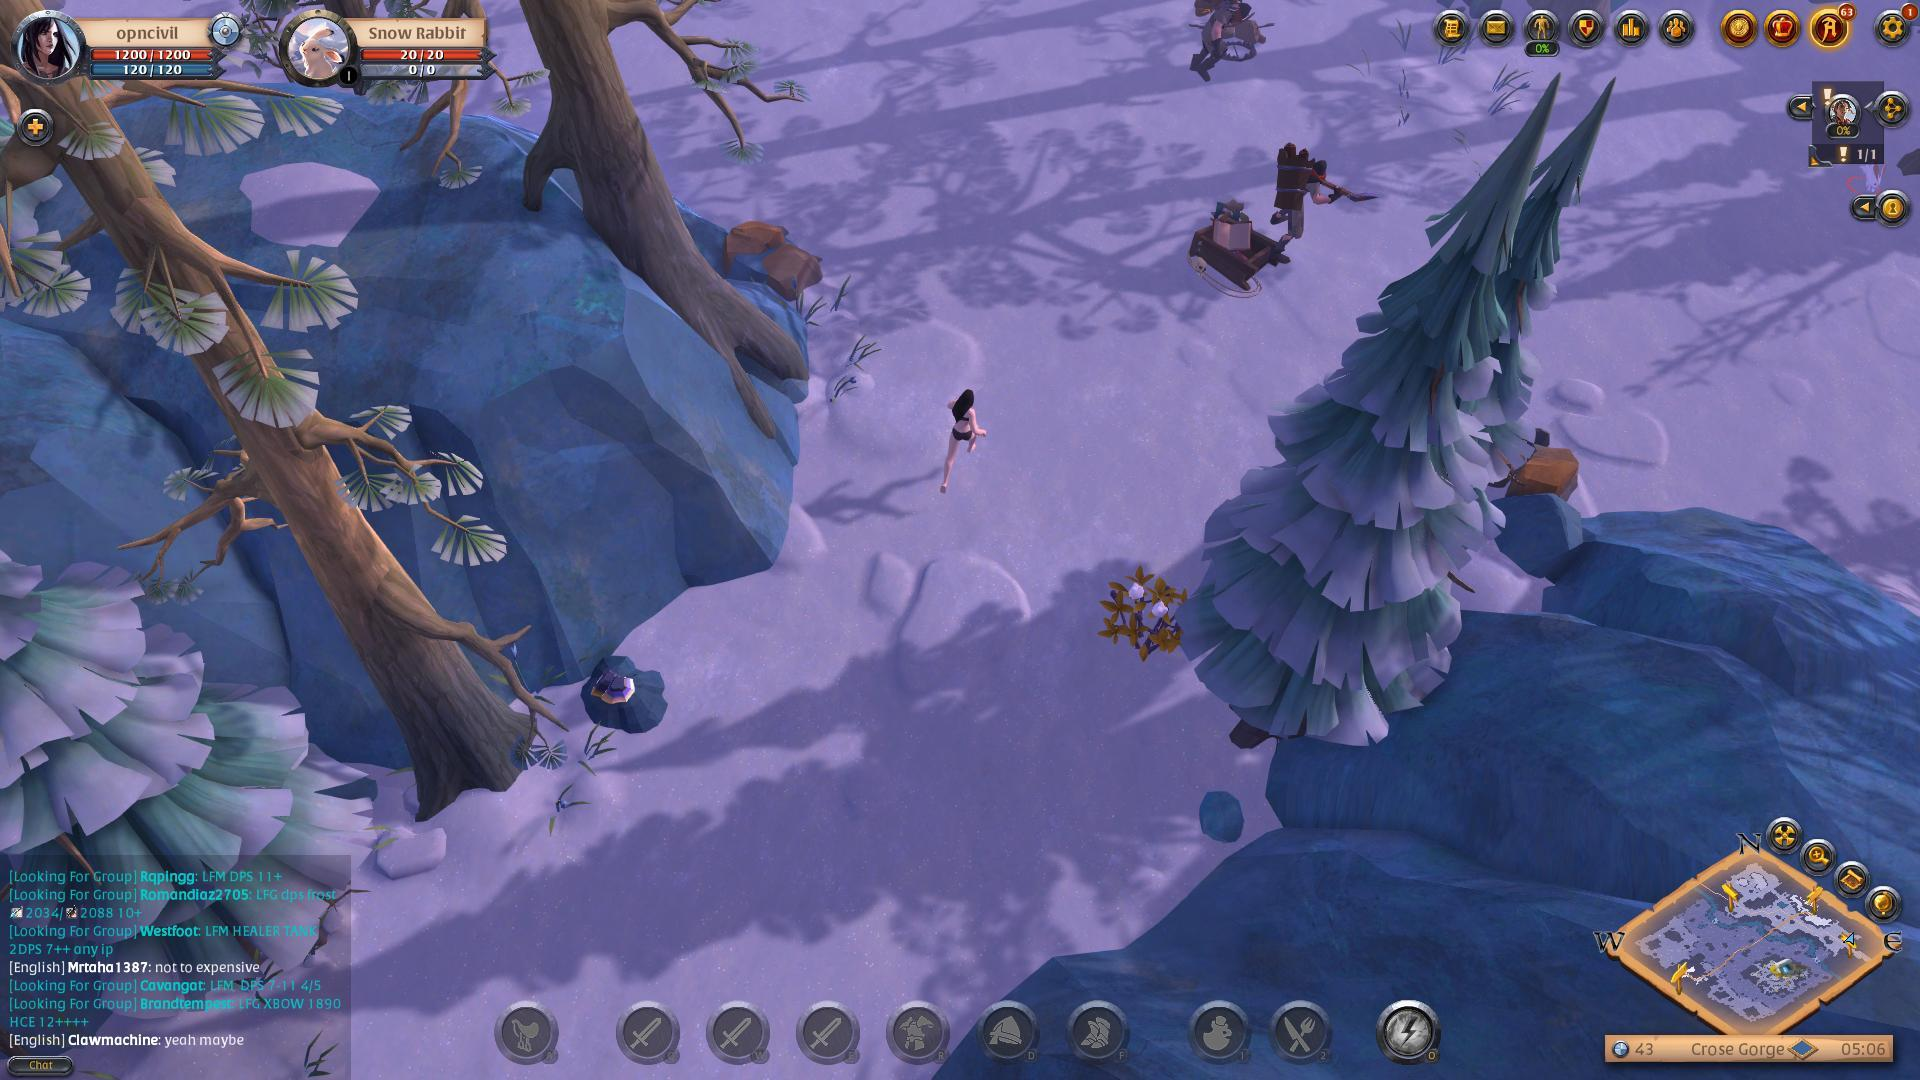copper_ore: (578, 642, 671, 738)
cotton: (1095, 578, 1208, 659)
limestone: (1487, 439, 1606, 506)
mob: (1254, 125, 1385, 260), (1164, 0, 1309, 79)
